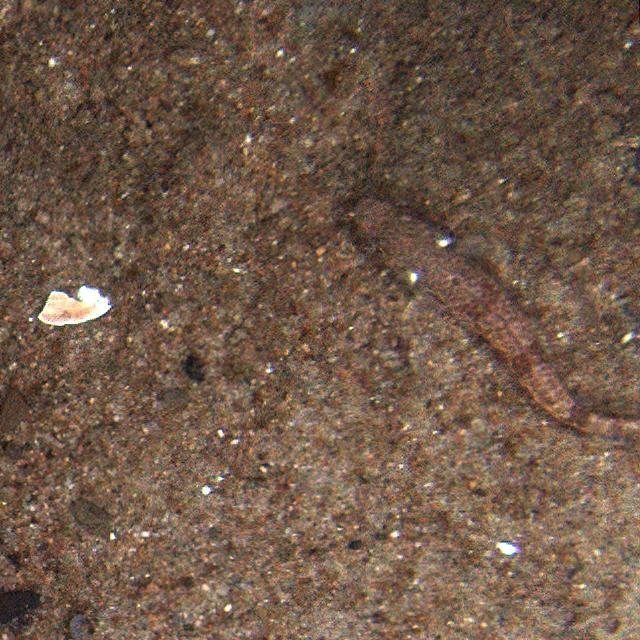roundfish: (356, 193, 640, 442)
